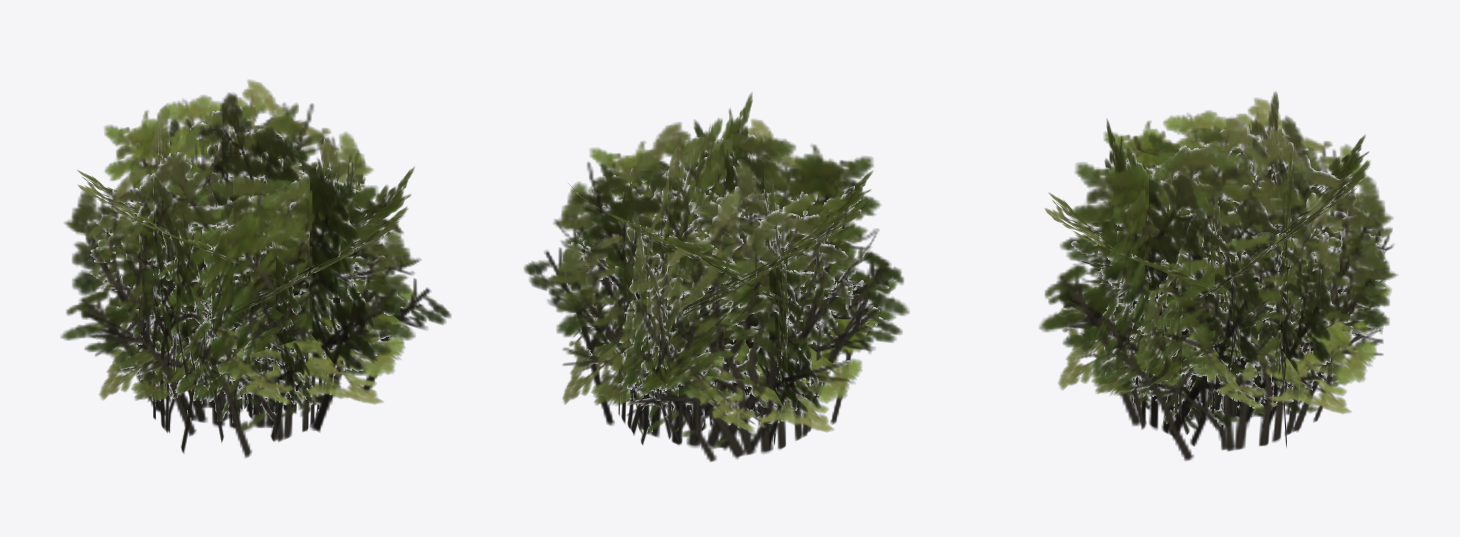
The model's file is genericbush1_lod1.glb.
The picture shows the model from 3 angles, left to right: view 1: azimuth 30°, elevation 25°; view 2: azimuth 150°, elevation 25°; view 3: azimuth 270°, elevation 25°; orthographic projection.
Visible parts, largest first — view 1: Bush-03; view 2: Bush-03; view 3: Bush-03.
Boxes of the visible parts, bbox=[...] form: Bush-03: bbox=[60, 80, 451, 457]; Bush-03: bbox=[524, 93, 909, 461]; Bush-03: bbox=[1039, 91, 1397, 460].
Bounding box in the file's own units: 1.17 × 1.02 × 1.22.
2 materials, 2 textured.
